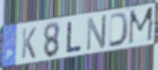8: (42, 20, 61, 59)
D: (107, 11, 131, 49)
K: (21, 26, 38, 61)
L: (65, 20, 83, 54)
M: (127, 6, 156, 47)
N: (85, 13, 108, 53)
